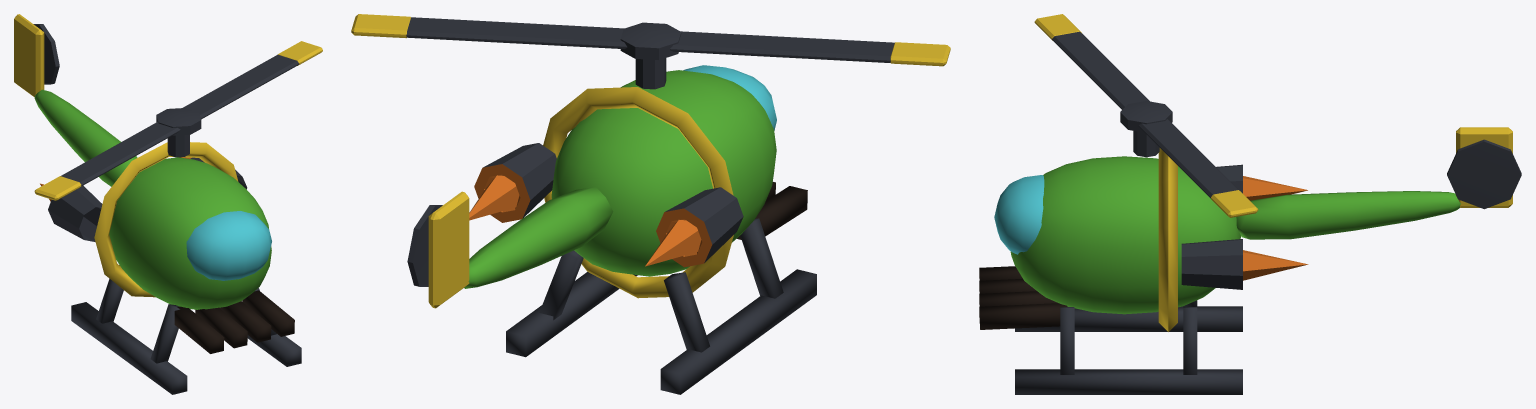
3 views of the same model, side by side, from view 1: azimuth 30°, elevation 25°; view 2: azimuth 150°, elevation 25°; view 3: azimuth 270°, elevation 25° (orthographic). The views are drawn at different scales.
Visible parts, largest first — view 1: heli_0_base, heli_1_torreta; view 2: heli_0_base, heli_1_torreta; view 3: heli_0_base, heli_1_torreta.
Part boxes in pixels (x1=…): heli_0_base: x1=14, y1=14, x2=301, y2=394; heli_1_torreta: x1=34, y1=41, x2=322, y2=200; heli_0_base: x1=407, y1=65, x2=816, y2=394; heli_1_torreta: x1=351, y1=14, x2=950, y2=89; heli_0_base: x1=979, y1=127, x2=1521, y2=394; heli_1_torreta: x1=1034, y1=14, x2=1258, y2=217.
Bounding box in the file's own units: 1.08 × 0.632 × 1.24.
